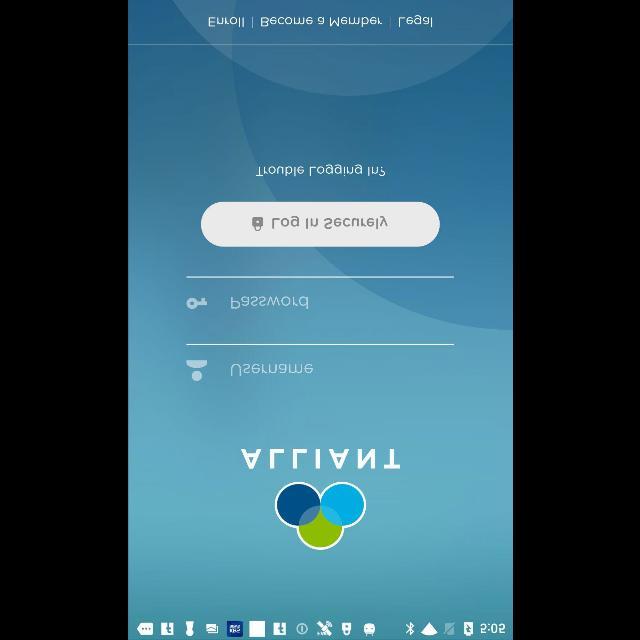icon: (186, 360, 207, 380)
image: (274, 480, 366, 550), (186, 297, 207, 309)
input: (185, 343, 453, 381), (186, 276, 454, 310)
text: (240, 448, 400, 469), (255, 164, 385, 176), (260, 16, 382, 28), (230, 296, 308, 310), (230, 364, 312, 376), (398, 15, 432, 28), (207, 16, 243, 28)
textbutton: (200, 201, 440, 247)
uppertaskbar: (128, 617, 512, 639)
